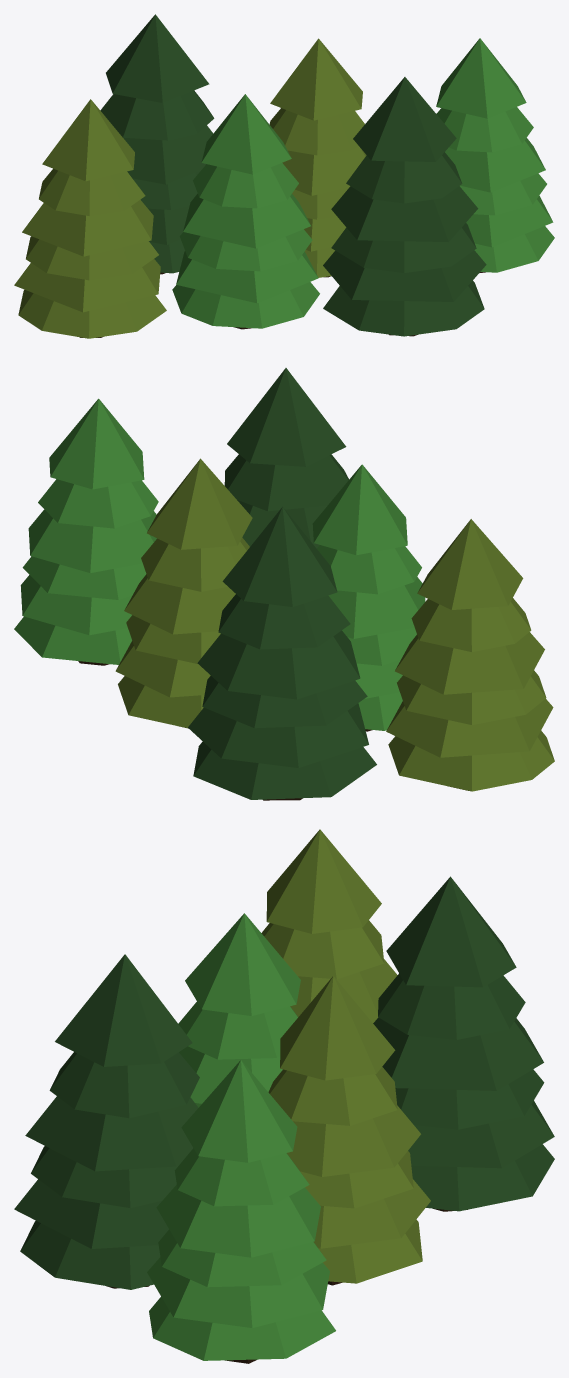
Rendered from Trees.glb.
3 views of the same model, one above another, from view 1: azimuth 30°, elevation 25°; view 2: azimuth 150°, elevation 25°; view 3: azimuth 270°, elevation 25° (orthographic). The views are drawn at different scales.
Visible parts, largest first — view 1: Trunk.001, Trunk.005, Trunk, Trunk.002, Trunk.003, Trunk.004; view 2: Trunk.003, Trunk.005, Trunk.002, Trunk.004, Trunk, Trunk.001; view 3: Trunk.001, Trunk.003, Trunk.002, Trunk.004, Trunk.005, Trunk.
Part boxes in pixels (bbox=[...]): Trunk.001: bbox=[323, 77, 486, 336]; Trunk.005: bbox=[14, 99, 166, 338]; Trunk: bbox=[172, 94, 319, 329]; Trunk.002: bbox=[436, 38, 554, 272]; Trunk.003: bbox=[100, 14, 214, 274]; Trunk.004: bbox=[269, 38, 366, 277]; Trunk.003: bbox=[188, 507, 376, 800]; Trunk.005: bbox=[386, 519, 554, 791]; Trunk.002: bbox=[14, 398, 158, 665]; Trunk.004: bbox=[115, 458, 252, 728]; Trunk: bbox=[312, 464, 425, 731]; Trunk.001: bbox=[224, 368, 348, 548]; Trunk.001: bbox=[14, 954, 199, 1289]; Trunk.003: bbox=[373, 876, 554, 1211]; Trunk.002: bbox=[147, 1060, 335, 1363]; Trunk.004: bbox=[268, 976, 430, 1285]; Trunk.005: bbox=[261, 829, 397, 1022]; Trunk: bbox=[178, 913, 300, 1107].
Bounding box in the file's own units: 22.49 × 10.97 × 16.79.
